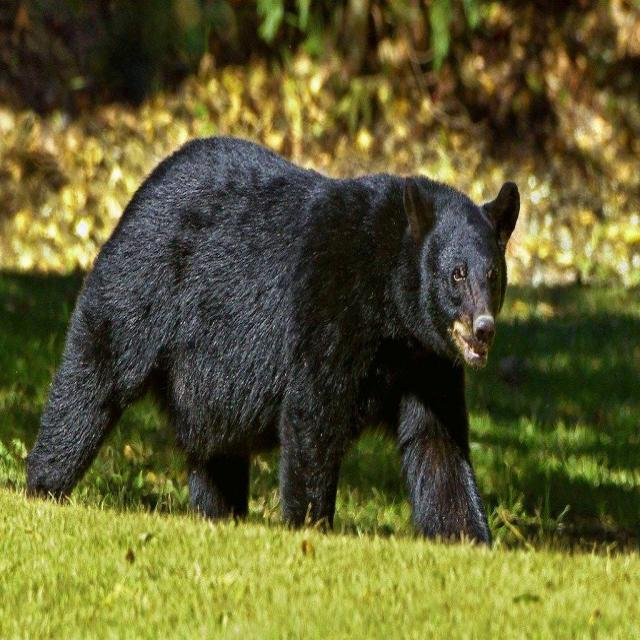Bear: (24, 136, 522, 547)
